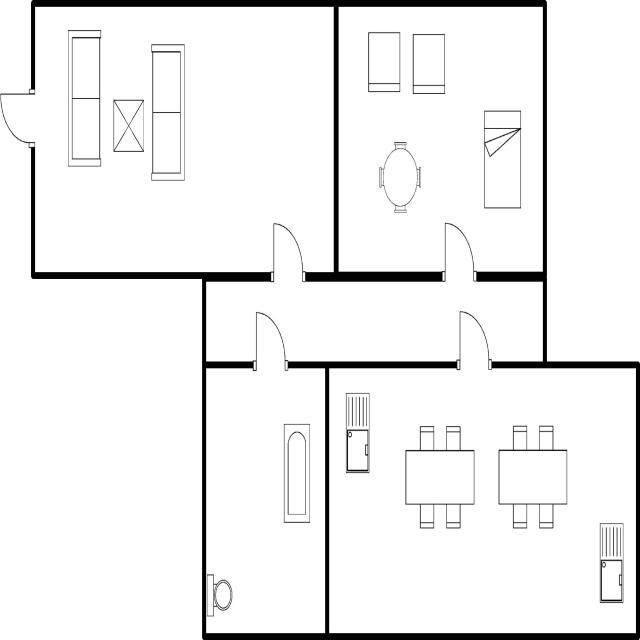bed: (480, 102, 525, 216)
coffee_table: (111, 93, 146, 158)
dining_table: (400, 418, 478, 534), (495, 419, 573, 535)
large_sink: (203, 569, 236, 623)
large_sofa: (64, 23, 105, 174), (149, 36, 189, 186)
round_table: (376, 137, 424, 219)
sink: (594, 516, 626, 607), (342, 386, 373, 478)
small_sofa: (364, 25, 402, 102), (410, 29, 449, 98)
tub: (278, 416, 314, 530)
